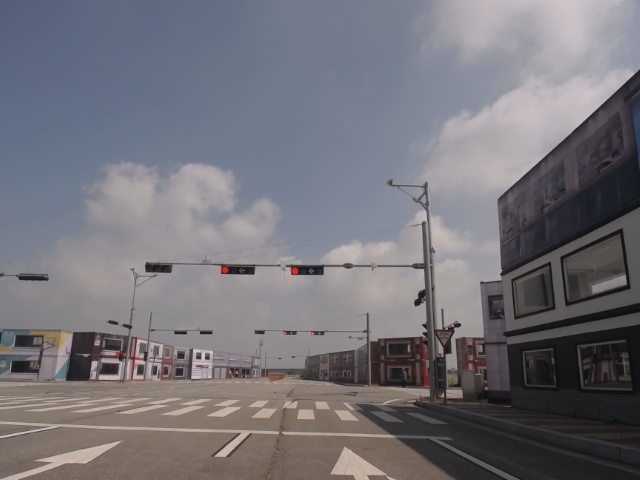left_green_4: (291, 265, 325, 275), (221, 265, 255, 274)
